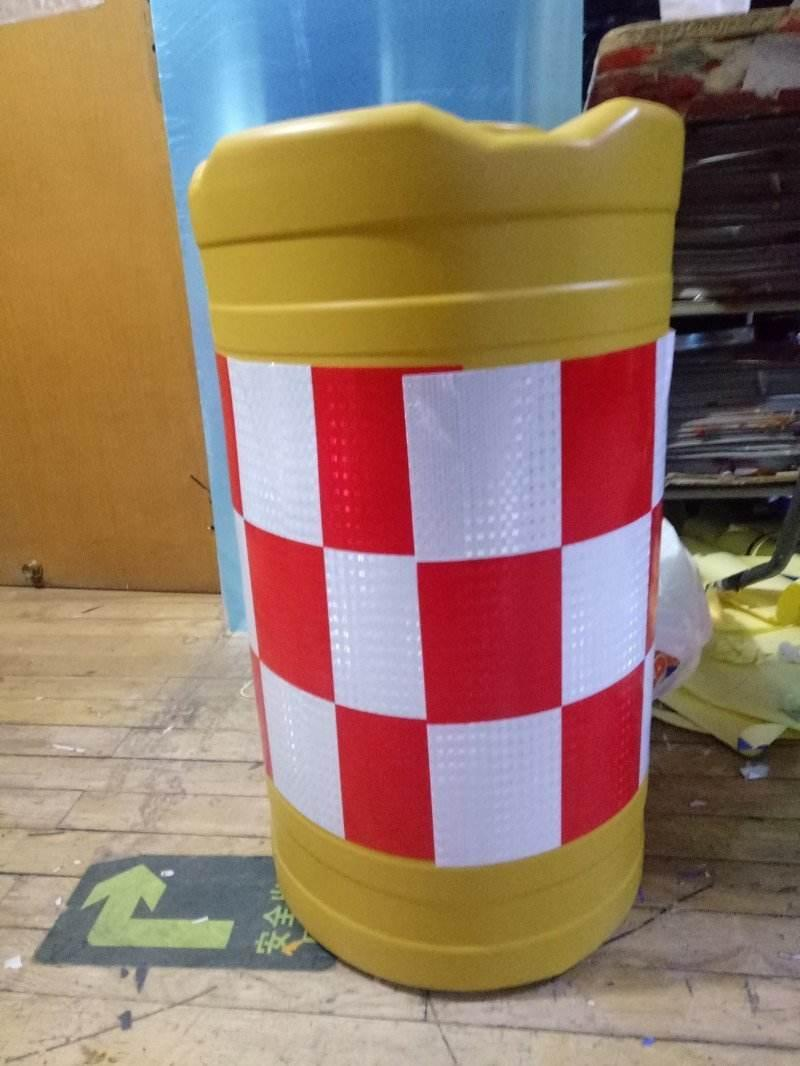sign: (173, 94, 696, 995)
